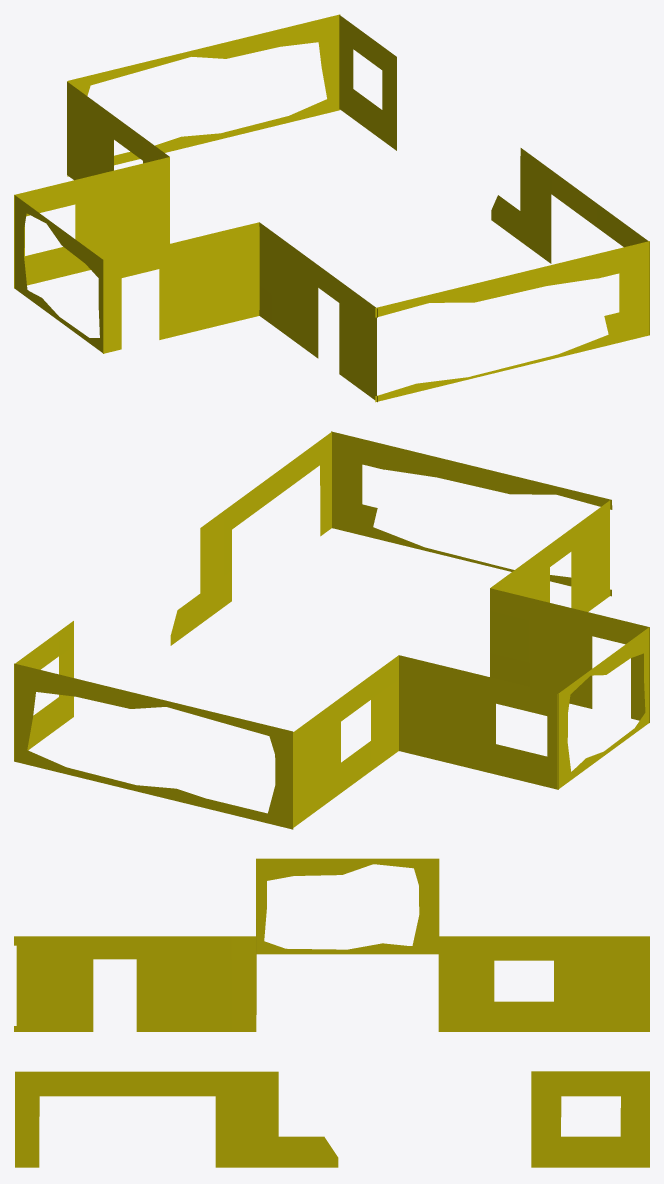
File: BH05B_WP_06_Break.fbx
3 renders of one model, top to bottom at view 1: azimuth 30°, elevation 25°; view 2: azimuth 150°, elevation 25°; view 3: azimuth 270°, elevation 25°, orthographic. The views are drawn at different scales.
Parts seen in each view (by area): view 1: BH05B_WP_06_Break; view 2: BH05B_WP_06_Break; view 3: BH05B_WP_06_Break.
Part boxes in pixels (box(x1,y1,x2,y2)): BH05B_WP_06_Break: box(14, 14, 649, 402); BH05B_WP_06_Break: box(14, 431, 649, 829); BH05B_WP_06_Break: box(14, 858, 649, 1167).
Bounding box in the file's own units: 1407 × 300 × 1766.
